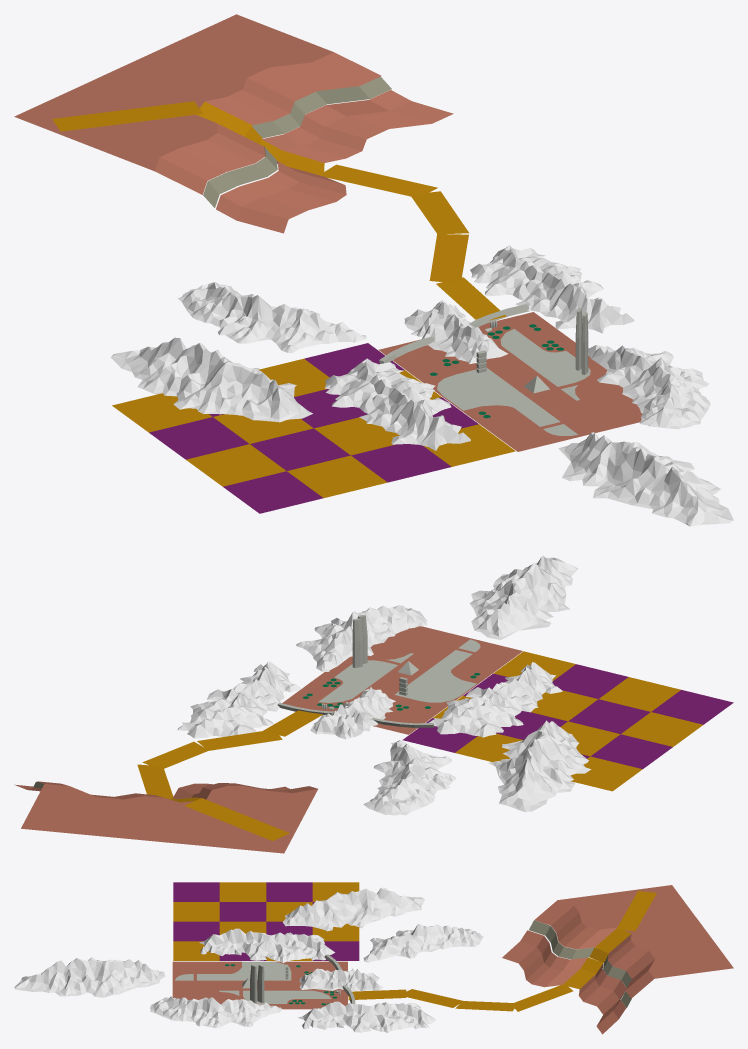
Rendered from Level1Blockout.fbx.
The picture shows the model from 3 angles, top to bottom: view 1: azimuth 30°, elevation 25°; view 2: azimuth 150°, elevation 25°; view 3: azimuth 270°, elevation 25°; orthographic projection. The views are drawn at different scales.
Visible parts, largest first — view 1: Plane.006, Plane.000, Plane, Plane.005, Plane.017, Plane.004, Plane.016, Plane.012, Plane.014, Plane.010, Plane.008, Plane.009 (+1 smaller); view 2: Plane.006, Plane.000, Plane.005, Plane, Plane.017, Plane.004, Plane.016, Plane.012, Plane.014, Plane.008, Plane.010, Plane.009 (+1 smaller); view 3: Plane.000, Plane.006, Plane.005, Plane, Plane.004, Plane.017, Plane.012, Plane.016, Plane.014, Plane.010, Plane.008, Plane.009 (+1 smaller).
Part boxes in pixels (<box>): Plane.006: <box>112,304,642,513</box>; Plane.000: <box>14,14,453,233</box>; Plane: <box>111,337,312,422</box>; Plane.005: <box>558,432,733,526</box>; Plane.017: <box>325,358,470,450</box>; Plane.004: <box>470,245,634,333</box>; Plane.016: <box>178,282,366,352</box>; Plane.012: <box>588,345,710,429</box>; Plane.014: <box>404,300,508,364</box>; Plane.010: <box>323,164,437,197</box>; Plane.008: <box>429,234,468,283</box>; Plane.009: <box>411,191,468,234</box>; Plane.006: <box>277,615,733,791</box>; Plane.000: <box>14,781,317,853</box>; Plane.005: <box>469,555,577,639</box>; Plane: <box>488,720,591,812</box>; Plane.017: <box>428,662,562,737</box>; Plane.004: <box>177,661,301,738</box>; Plane.016: <box>363,740,456,815</box>; Plane.012: <box>296,605,427,671</box>; Plane.014: <box>310,687,395,739</box>; Plane.008: <box>197,729,282,750</box>; Plane.010: <box>137,764,173,798</box>; Plane.009: <box>142,741,208,768</box>; Plane.000: <box>502,885,733,1034</box>; Plane.006: <box>172,882,359,1009</box>; Plane.005: <box>14,957,165,997</box>; Plane: <box>283,887,424,931</box>; Plane.004: <box>297,1001,435,1032</box>; Plane.017: <box>199,928,334,962</box>; Plane.012: <box>150,996,282,1028</box>; Plane.016: <box>363,924,483,962</box>; Plane.014: <box>299,968,382,991</box>; Plane.010: <box>511,985,573,1011</box>; Plane.008: <box>399,989,462,1007</box>; Plane.009: <box>455,1001,514,1011</box>.
Size of the model in its own units: 149972 by 18954 by 277801.
